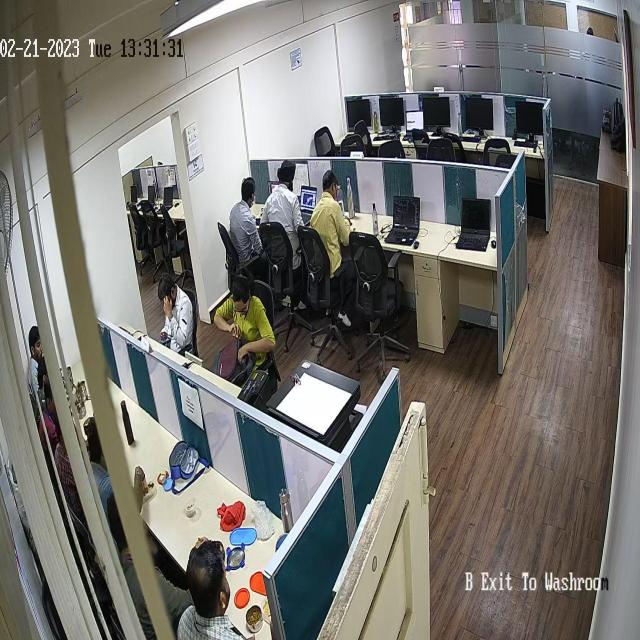keyboard: (514, 137, 539, 152), (460, 134, 482, 145), (377, 132, 397, 142)
laptop: (456, 196, 492, 249), (386, 196, 420, 250), (403, 108, 425, 143), (298, 185, 316, 220), (158, 184, 173, 216), (117, 324, 143, 341), (142, 187, 154, 212), (128, 184, 138, 207)
monitor: (515, 98, 544, 136), (465, 98, 496, 133), (423, 97, 451, 126), (376, 99, 404, 125), (346, 98, 372, 126)
person: (213, 270, 276, 386), (178, 538, 248, 638), (261, 145, 305, 288), (215, 175, 268, 278), (311, 169, 353, 296), (153, 265, 200, 363)
phone: (181, 354, 195, 370)
